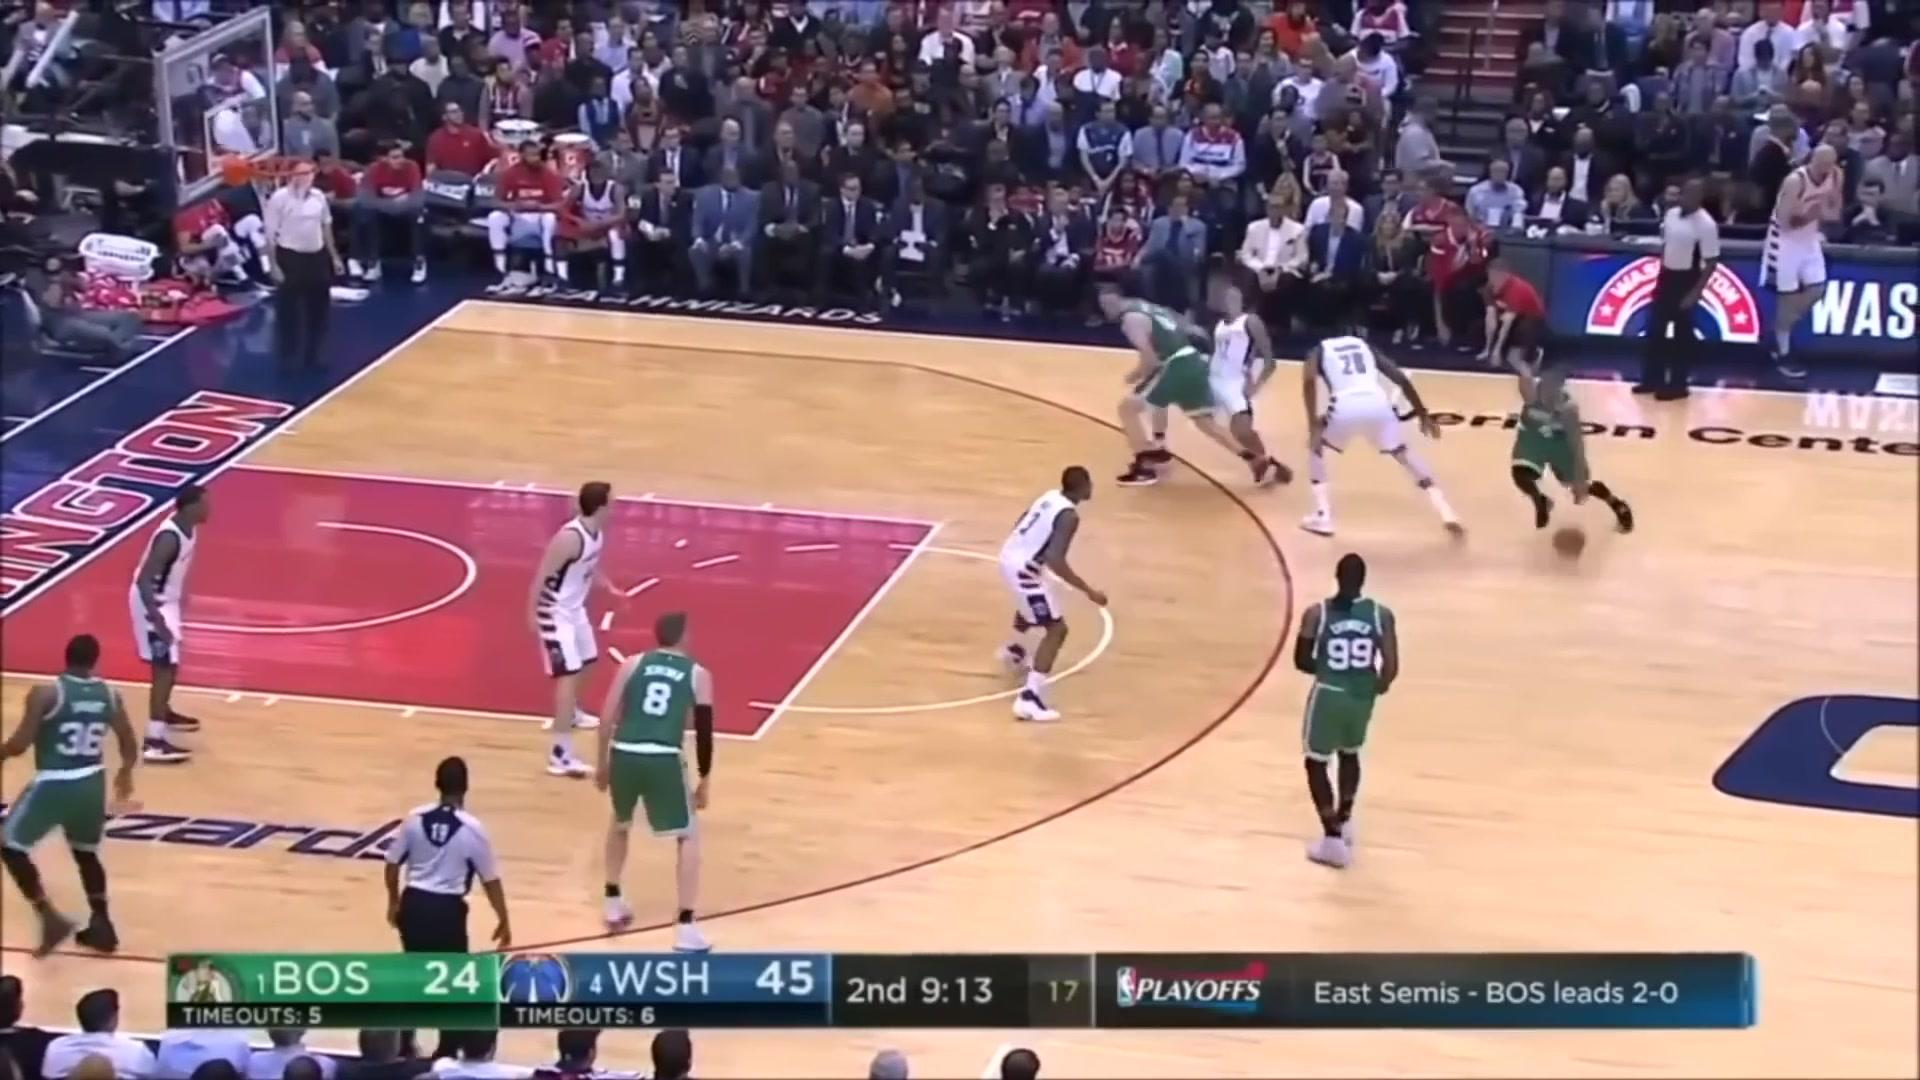foul: (1072, 236, 1294, 488)
